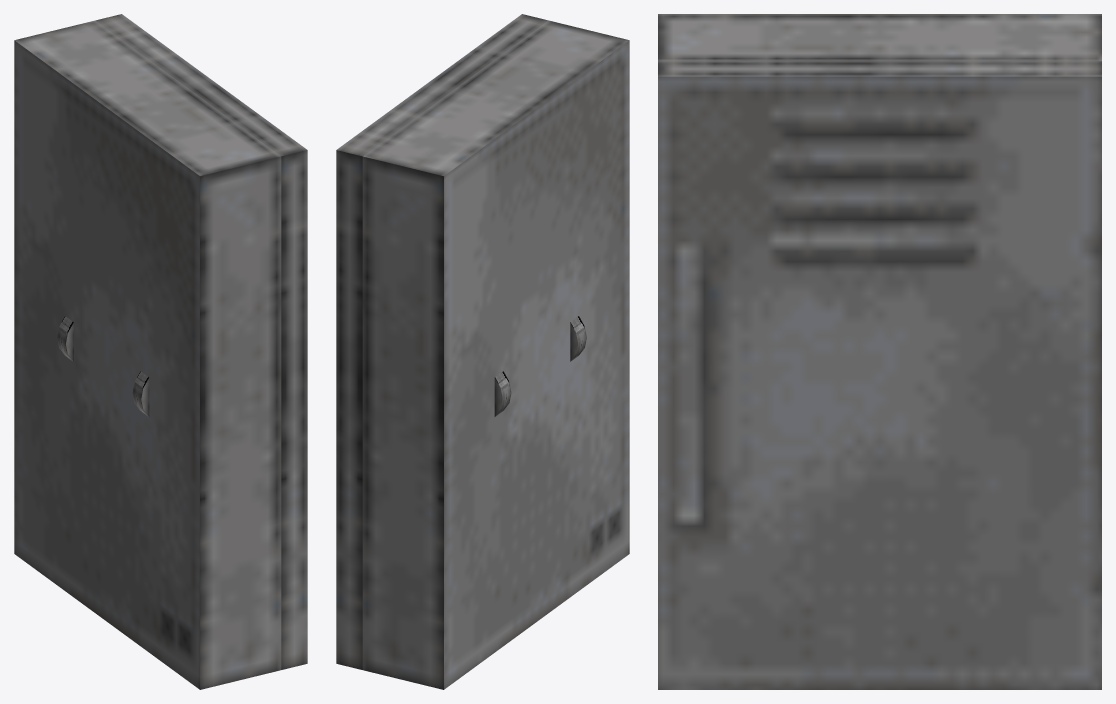
The model's file is lever_box.fbx.
The picture shows the model from 3 angles, left to right: view 1: azimuth 30°, elevation 25°; view 2: azimuth 150°, elevation 25°; view 3: azimuth 270°, elevation 25°; orthographic projection. The views are drawn at different scales.
Visible parts, largest first — view 1: Box_main, Box_lid, Lever_handles; view 2: Box_main, Box_lid, Lever_handles; view 3: Box_lid, Box_main.
Boxes of the visible parts, bbox=[...] form: Box_main: bbox=[14, 20, 281, 689]; Box_lid: bbox=[95, 14, 307, 669]; Lever_handles: bbox=[57, 316, 149, 416]; Box_main: bbox=[362, 20, 629, 689]; Box_lid: bbox=[336, 14, 548, 669]; Lever_handles: bbox=[494, 316, 586, 416]; Box_lid: bbox=[658, 61, 1101, 689]; Box_main: bbox=[658, 14, 1101, 61].
Size of the model in its own units: 20.55 by 87.26 by 57.23.
